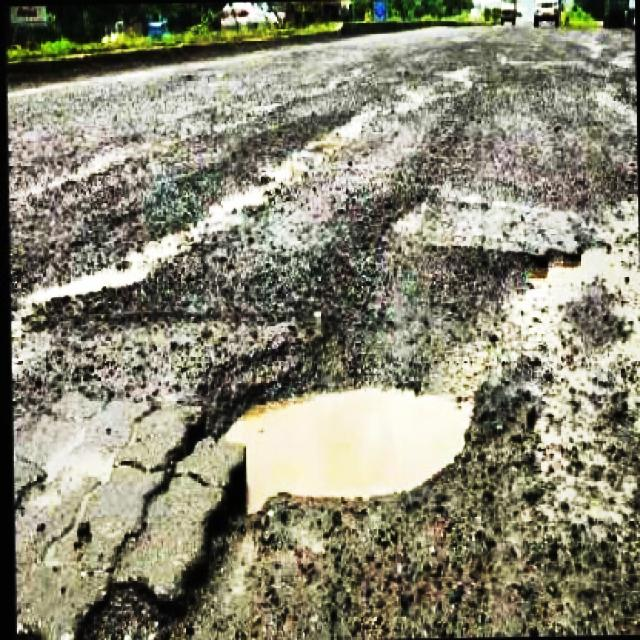pothole: (191, 345, 486, 517), (498, 240, 640, 380), (9, 228, 191, 318), (72, 567, 210, 640)
